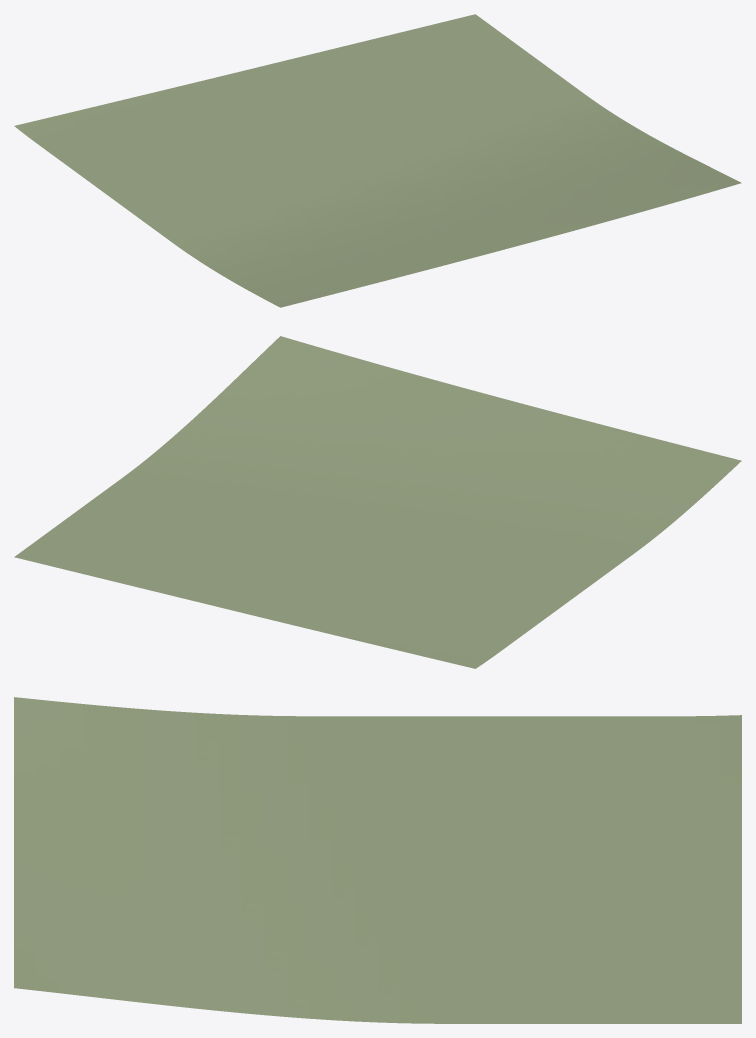
The model's file is valley-4-8.glb.
The picture shows the model from 3 angles, top to bottom: view 1: azimuth 30°, elevation 25°; view 2: azimuth 150°, elevation 25°; view 3: azimuth 270°, elevation 25°; orthographic projection. The views are drawn at different scales.
Visible parts, largest first — view 1: valley-4-8; view 2: valley-4-8; view 3: valley-4-8.
Boxes of the visible parts, box(x1,y1,x2,y2) form: valley-4-8: box(14, 14, 741, 307); valley-4-8: box(14, 336, 741, 668); valley-4-8: box(14, 697, 741, 1023).
Bounding box in the file's own units: 256 × 13.87 × 256.
